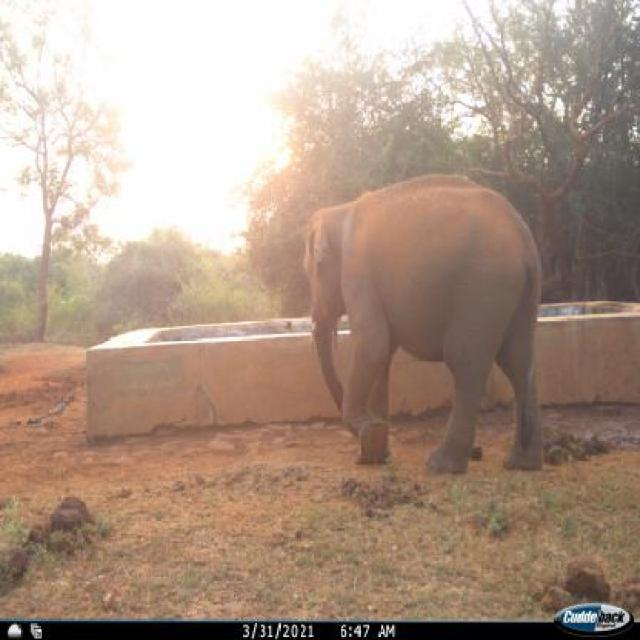Elephant: (302, 176, 549, 478)
